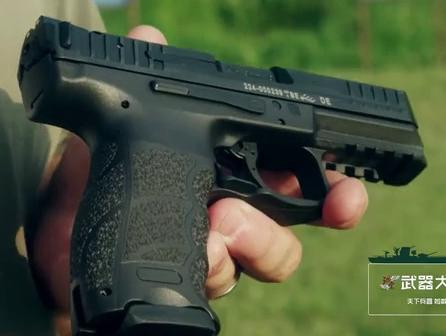gun: (1, 1, 446, 336)
